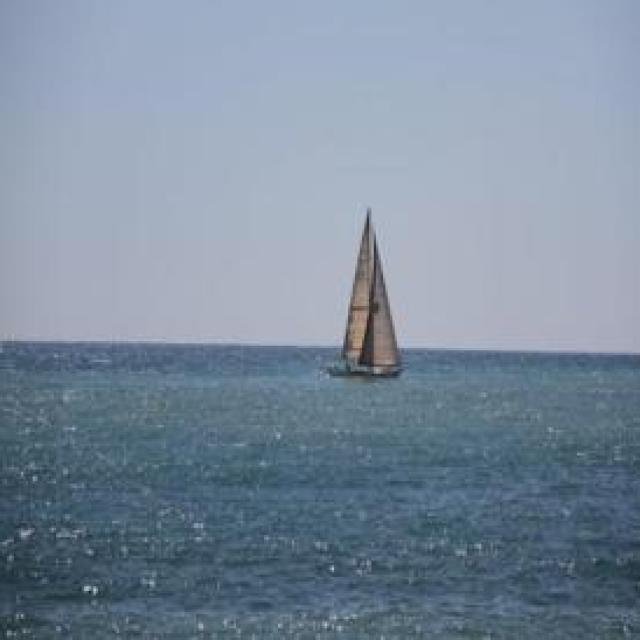sailboat: (326, 203, 412, 377)
